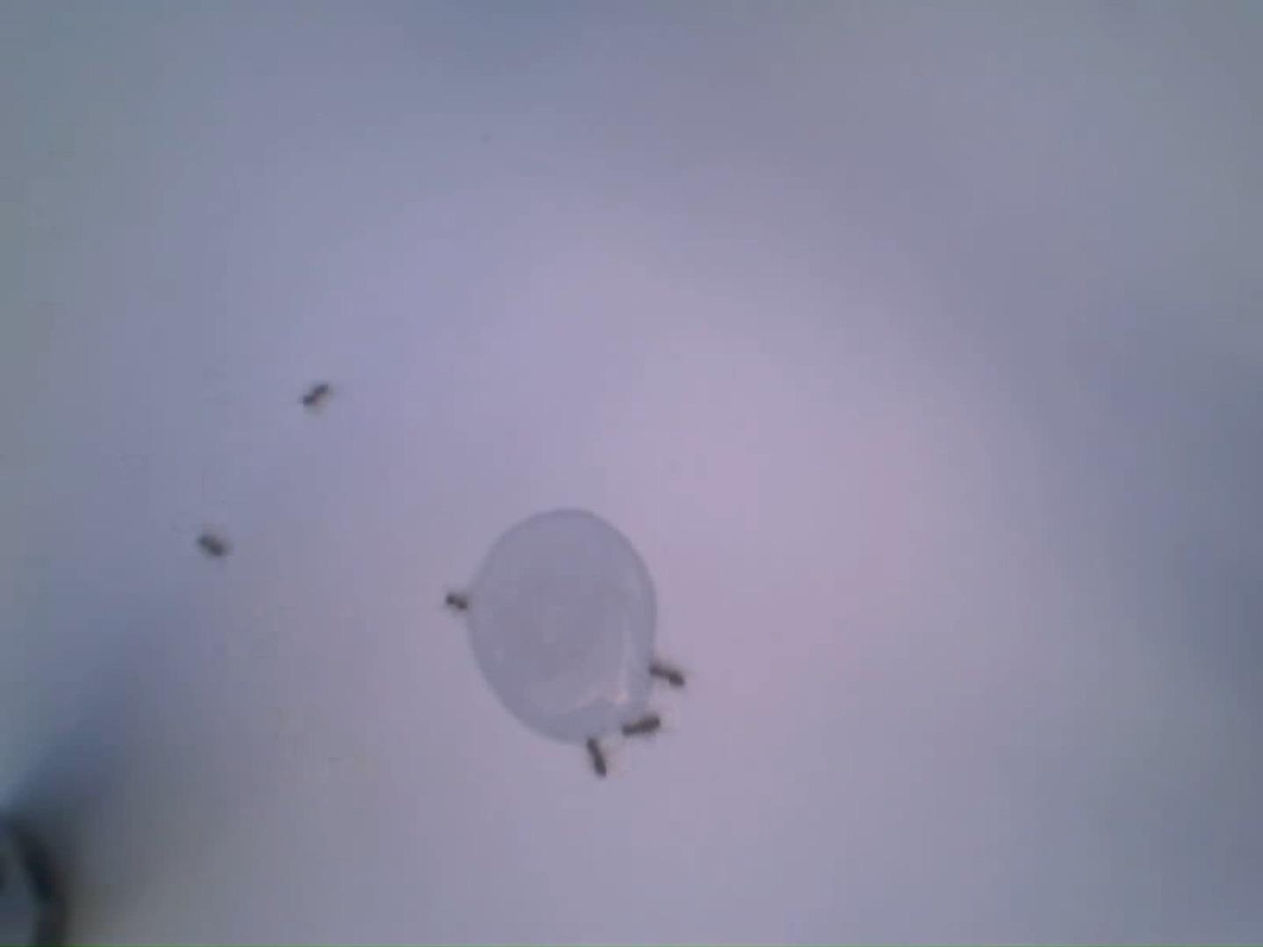Ant: (625, 713, 666, 737), (649, 661, 686, 686), (588, 737, 609, 776), (303, 381, 331, 406), (201, 533, 229, 556), (447, 592, 471, 611)
